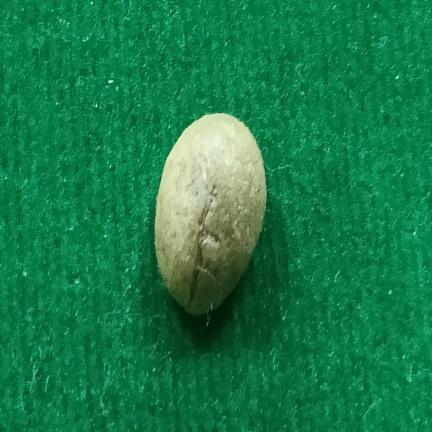cut: (155, 113, 266, 315)
